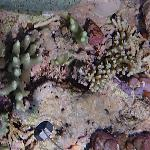dead: (4, 5, 145, 147)
